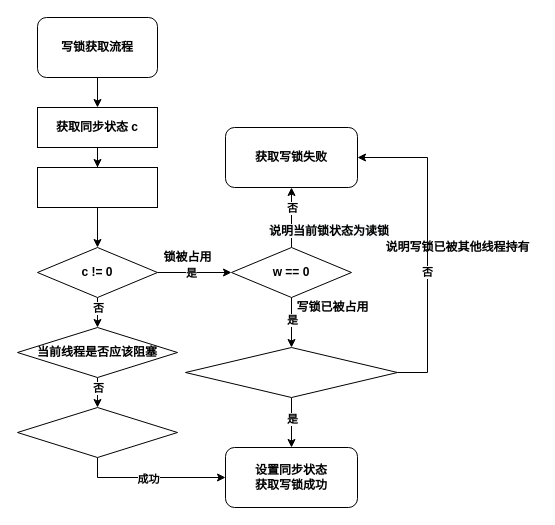
Image size: 555x525. Some labels were removed from this diagram. The box of each missing label's shape, as (x1, y1, x2, y2) in pixels:
CAS竞争锁: (16, 406, 178, 458)
当前线程是否为持有写锁的线程: (184, 346, 398, 398)
获取写锁持有数 w: (36, 166, 158, 208)
